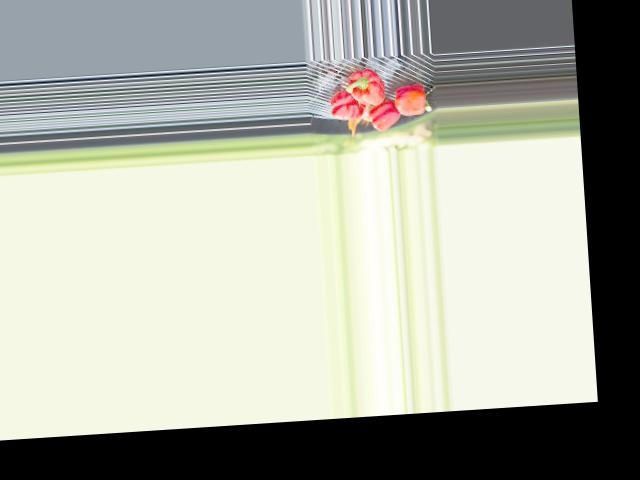bell_pepper: (328, 89, 366, 122)
